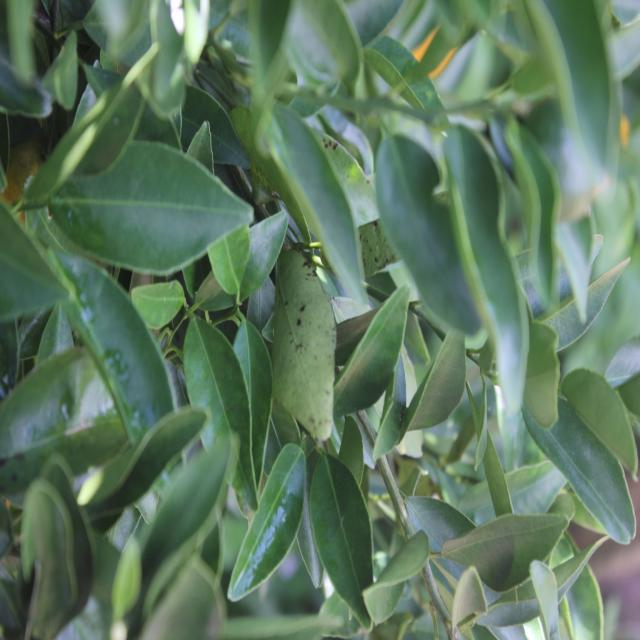melanose: (268, 242, 350, 457), (325, 188, 450, 284)
